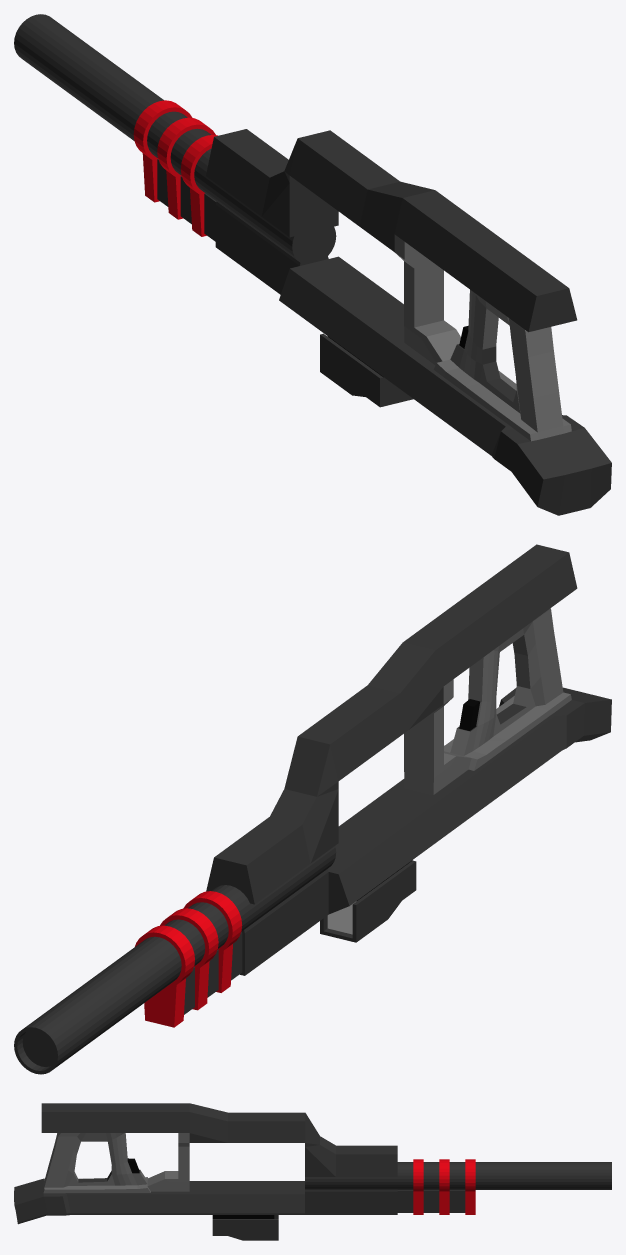
File: mekaGanD 1.fbx
3 renders of one model, top to bottom at view 1: azimuth 30°, elevation 25°; view 2: azimuth 150°, elevation 25°; view 3: azimuth 270°, elevation 25°, orthographic. The views are drawn at different scales.
Visible parts, largest first — view 1: 立方体.006; view 2: 立方体.006; view 3: 立方体.006.
Boxes of the visible parts, left/top/right/bottom form: 立方体.006: left=14, top=14, right=611, bottom=515; 立方体.006: left=14, top=544, right=611, bottom=1074; 立方体.006: left=14, top=1103, right=611, bottom=1240.
Size of the model in its own units: 9.01 by 27.26 by 115.
